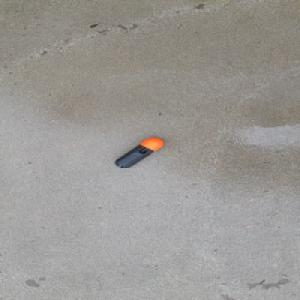PlasticPart: (114, 137, 165, 168)
